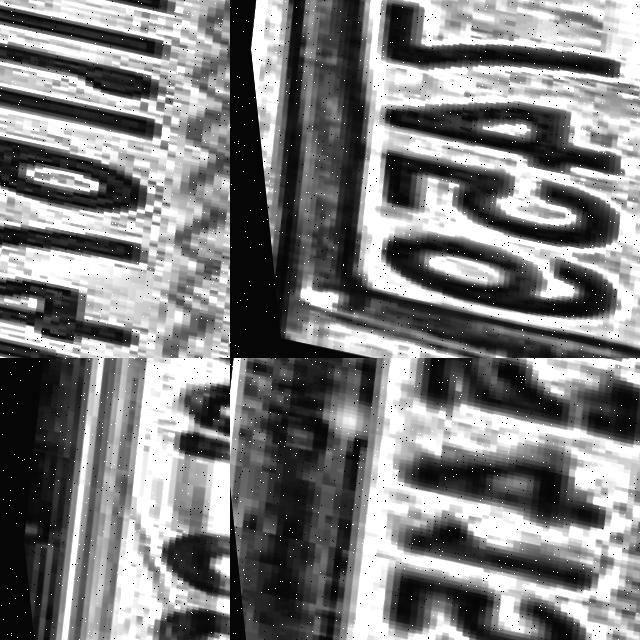license-plate: (230, 0, 640, 358), (236, 358, 640, 640), (0, 0, 230, 358), (0, 358, 230, 640)
